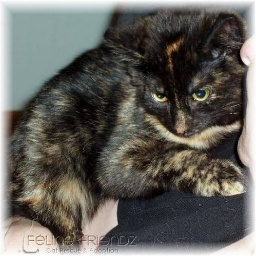cat: (8, 9, 256, 240)
